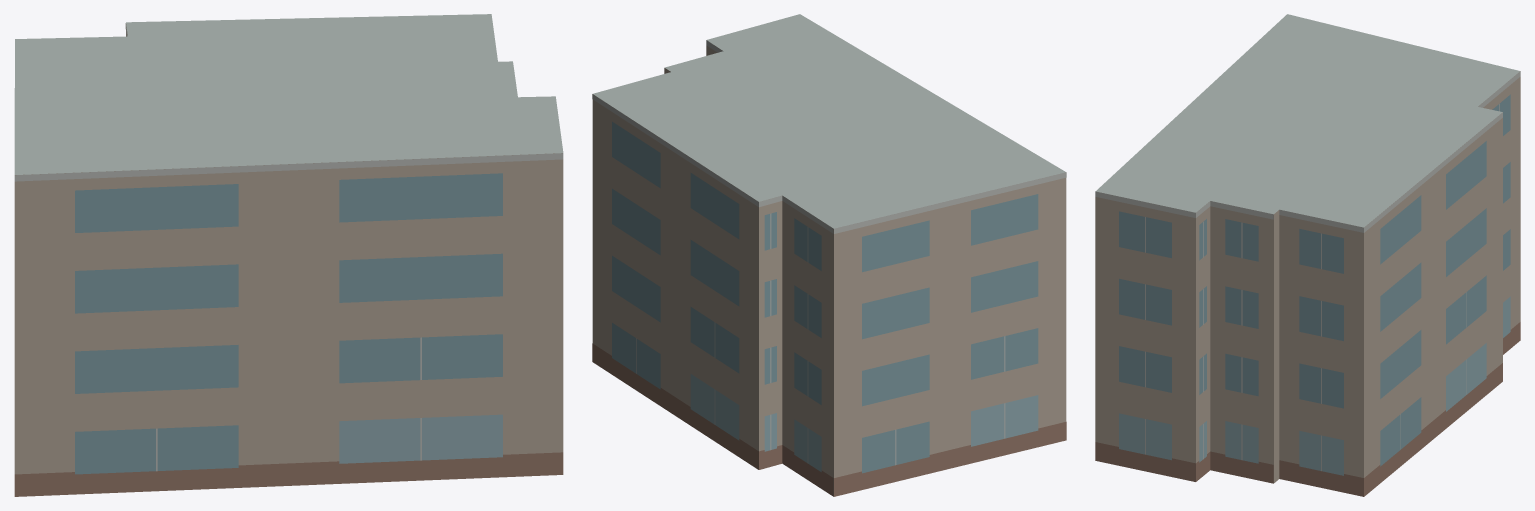
The model's file is survey-upis-32777636.glb.
3 renders of one model, left to right at view 1: azimuth 30°, elevation 25°; view 2: azimuth 150°, elevation 25°; view 3: azimuth 270°, elevation 25°, orthographic. The views are drawn at different scales.
Visible parts, largest first — view 1: survey-upis-32777636.tmp; view 2: survey-upis-32777636.tmp; view 3: survey-upis-32777636.tmp.
Part boxes in pixels (x1,y1,x2,y2): survey-upis-32777636.tmp: [14, 14, 563, 496]; survey-upis-32777636.tmp: [592, 14, 1066, 496]; survey-upis-32777636.tmp: [1095, 14, 1520, 496].
Bounding box in the file's own units: 20.76 × 12.2 × 17.46.
